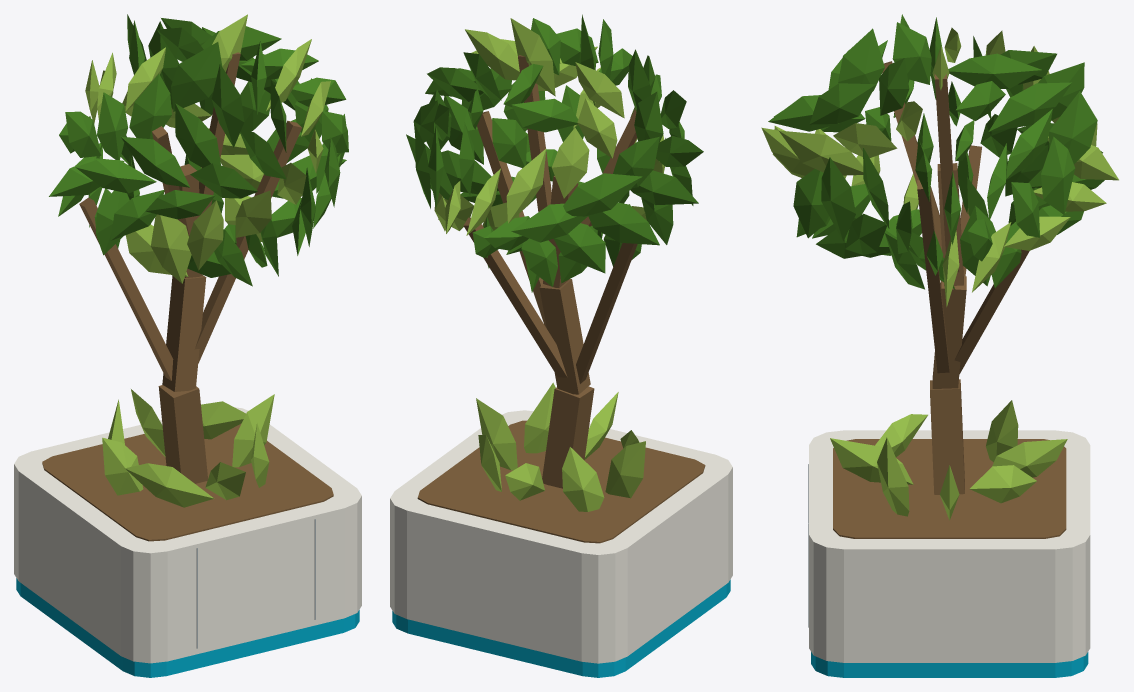
The model's file is tree_planter.glb.
3 renders of one model, left to right at view 1: azimuth 30°, elevation 25°; view 2: azimuth 150°, elevation 25°; view 3: azimuth 270°, elevation 25°, orthographic. The views are drawn at different scales.
Parts seen in each view (by area): view 1: Aero_tree_planter; view 2: Aero_tree_planter; view 3: Aero_tree_planter.
Boxes of the visible parts, <box> form: Aero_tree_planter: <box>14,14,361,677</box>; Aero_tree_planter: <box>390,14,732,677</box>; Aero_tree_planter: <box>761,14,1118,677</box>.
Bounding box in the file's own units: 1.59 × 3.01 × 1.63.
6 materials, 6 textured.
